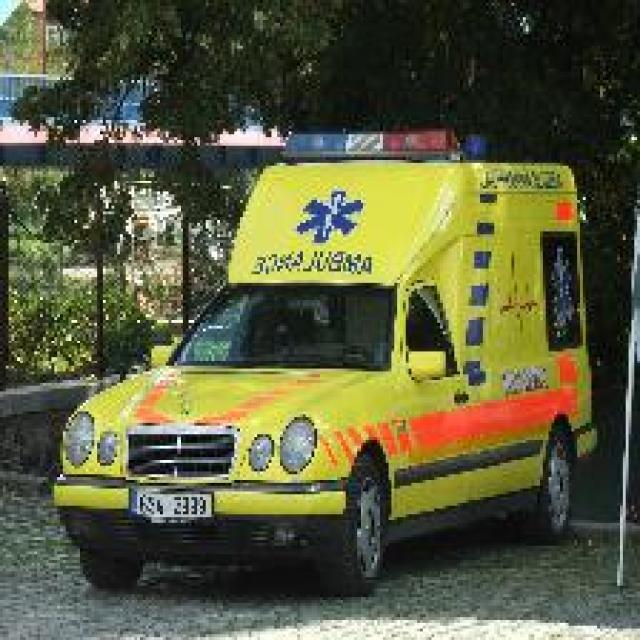emergency: (57, 100, 605, 584)
